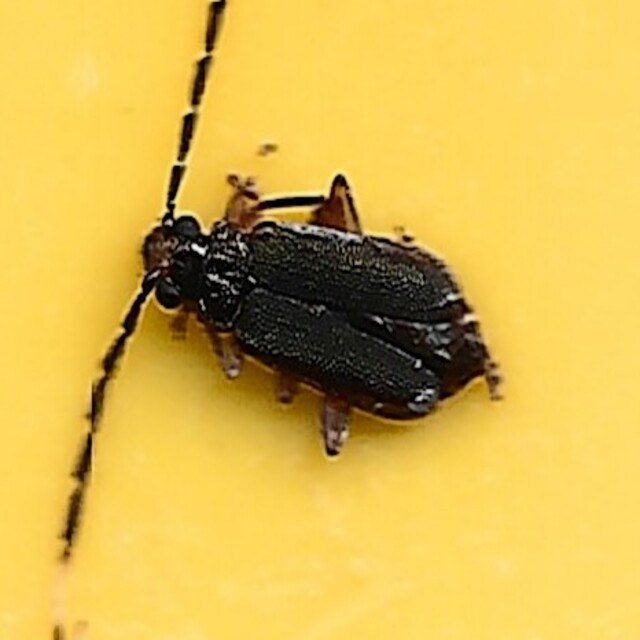Coleoptera: (137, 174, 503, 466)
